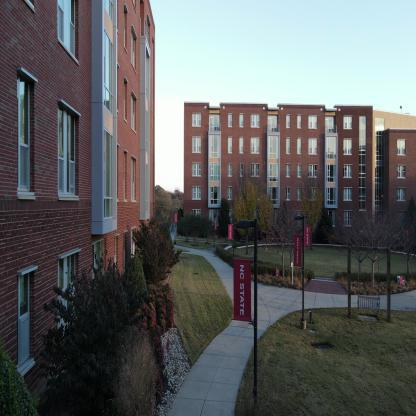Wolf Ridge: (0, 0, 167, 400), (177, 73, 415, 328)
